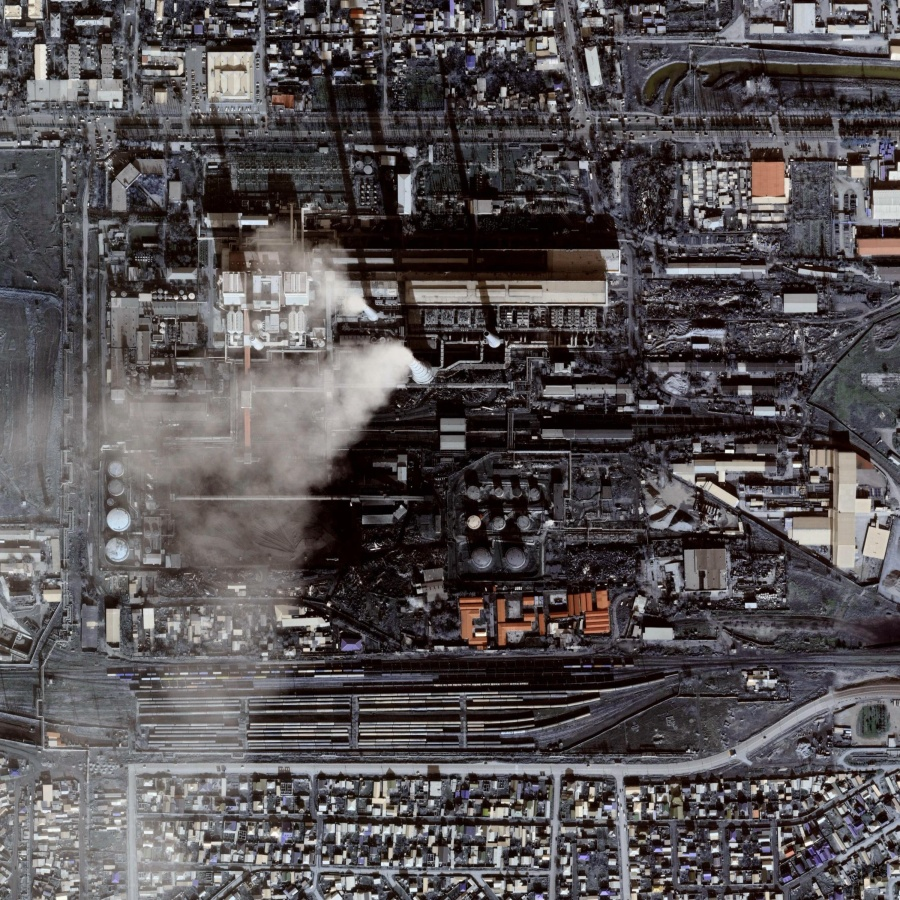PowerPlant: (110, 270, 614, 584)
